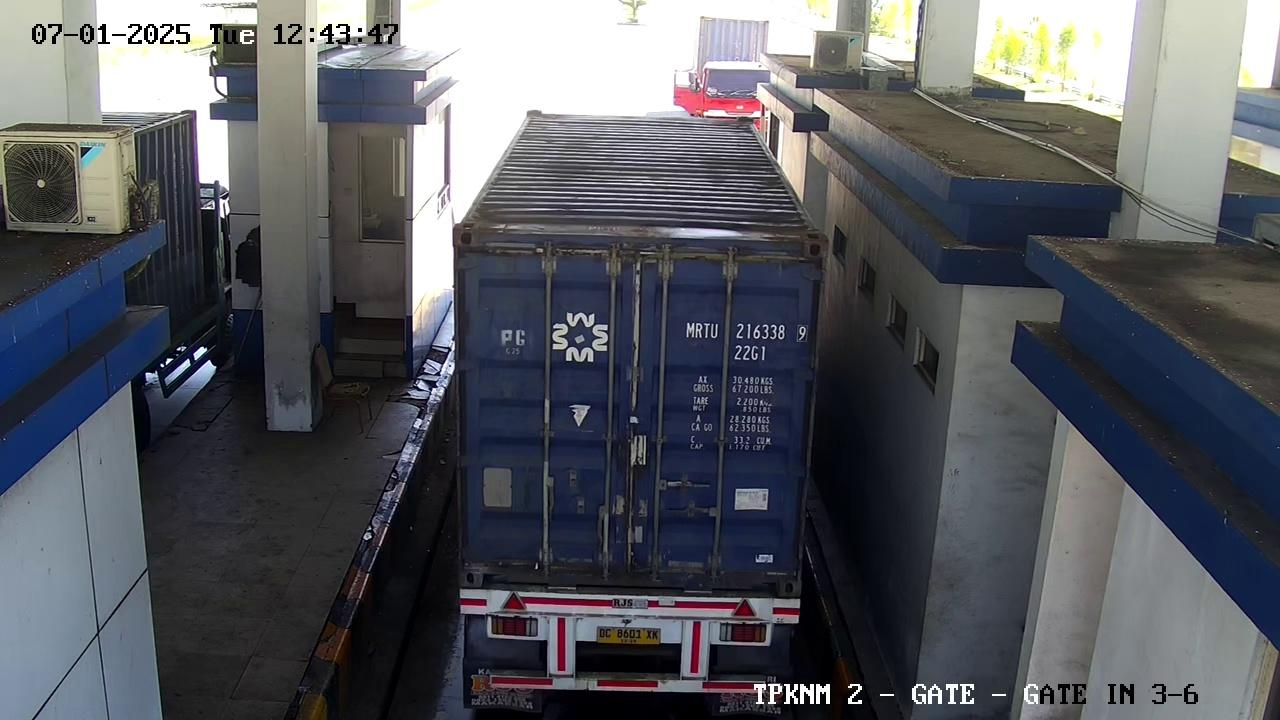Container_ID: (666, 313, 812, 375)
plate_number: (576, 622, 669, 652)
